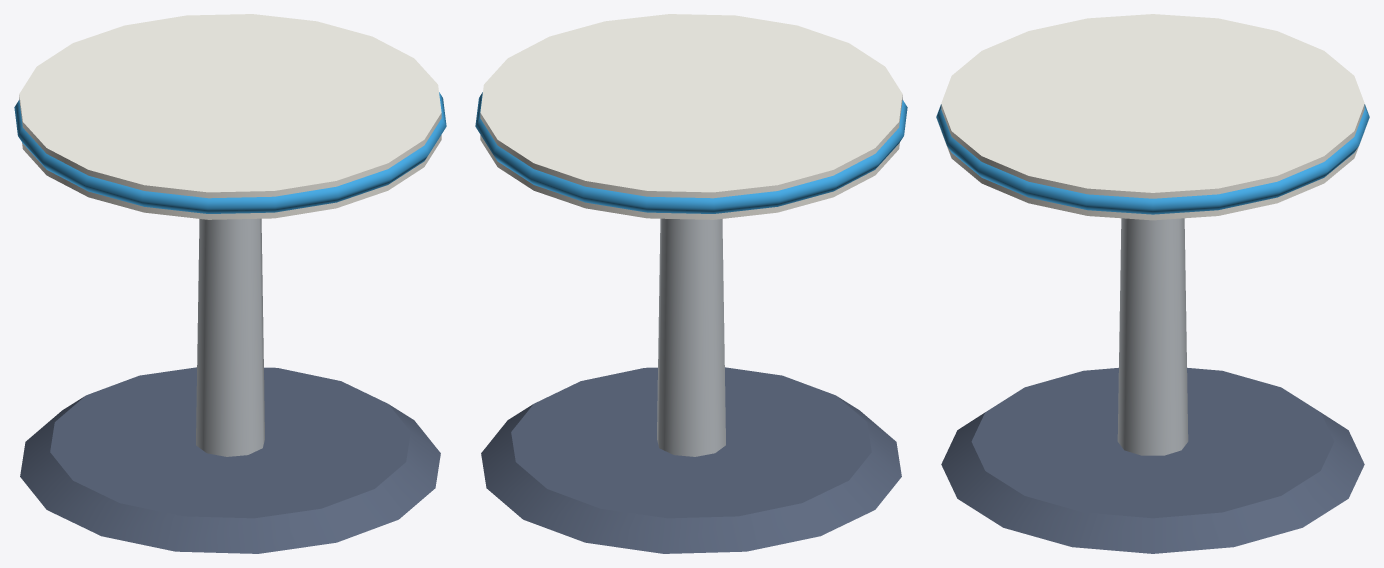
File: hero-shooter-harbour-payload-cafe-table-round-f51d3d3d__27710.glb
3 renders of one model, left to right at view 1: azimuth 30°, elevation 25°; view 2: azimuth 150°, elevation 25°; view 3: azimuth 270°, elevation 25°, orthographic.
Parts seen in each view (by area): view 1: cafe-table-round; view 2: cafe-table-round; view 3: cafe-table-round.
Part boxes in pixels (bbox=[...]): cafe-table-round: bbox=[14, 14, 446, 553]; cafe-table-round: bbox=[475, 14, 907, 553]; cafe-table-round: bbox=[936, 14, 1369, 553].
Bounding box in the file's own units: 0.86 × 0.79 × 0.86.
